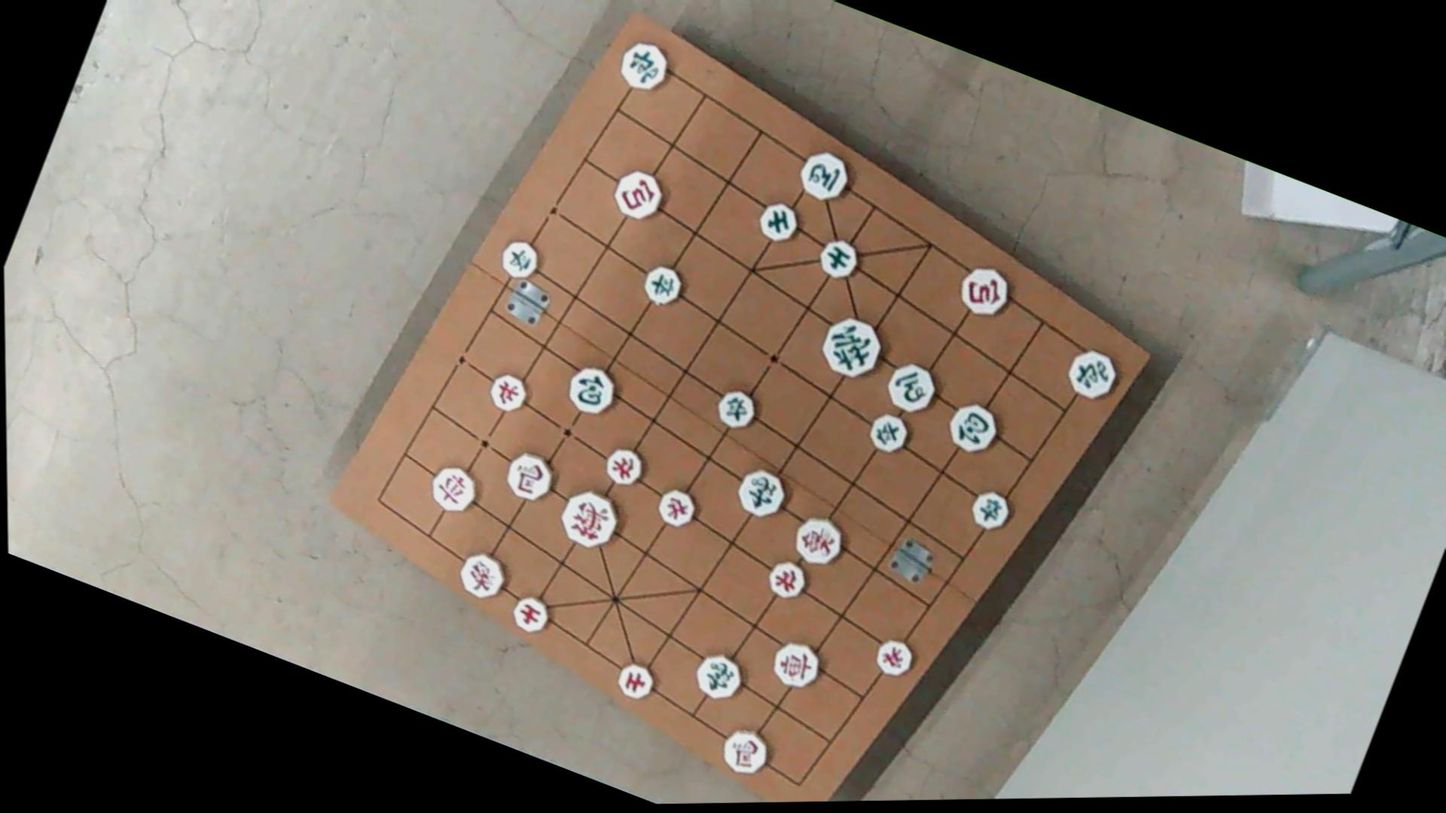cha_green: (613, 33, 677, 96), (1060, 343, 1124, 405)
cha_red: (425, 462, 484, 520), (767, 638, 825, 694)
jol_green: (712, 385, 762, 435), (966, 486, 1016, 535), (496, 236, 545, 285), (865, 408, 914, 456), (639, 262, 687, 310)
jol_red: (870, 632, 920, 681), (761, 553, 810, 601), (654, 484, 702, 532), (600, 441, 648, 489), (484, 369, 529, 415)
ma_green: (882, 357, 941, 417), (795, 147, 854, 206)
ma_red: (712, 720, 776, 781), (500, 447, 560, 506)
po_green: (944, 397, 1005, 459), (562, 361, 621, 420)
po_red: (953, 260, 1017, 323), (609, 165, 670, 226)
sa_green: (755, 197, 804, 247), (813, 236, 862, 285)
sa_red: (507, 589, 558, 638), (612, 658, 661, 705)
sang_green: (731, 464, 792, 524), (688, 649, 748, 708)
sang_red: (789, 510, 850, 571), (451, 547, 512, 604)
wang_green: (813, 309, 887, 384)
wang_red: (554, 483, 627, 555)
